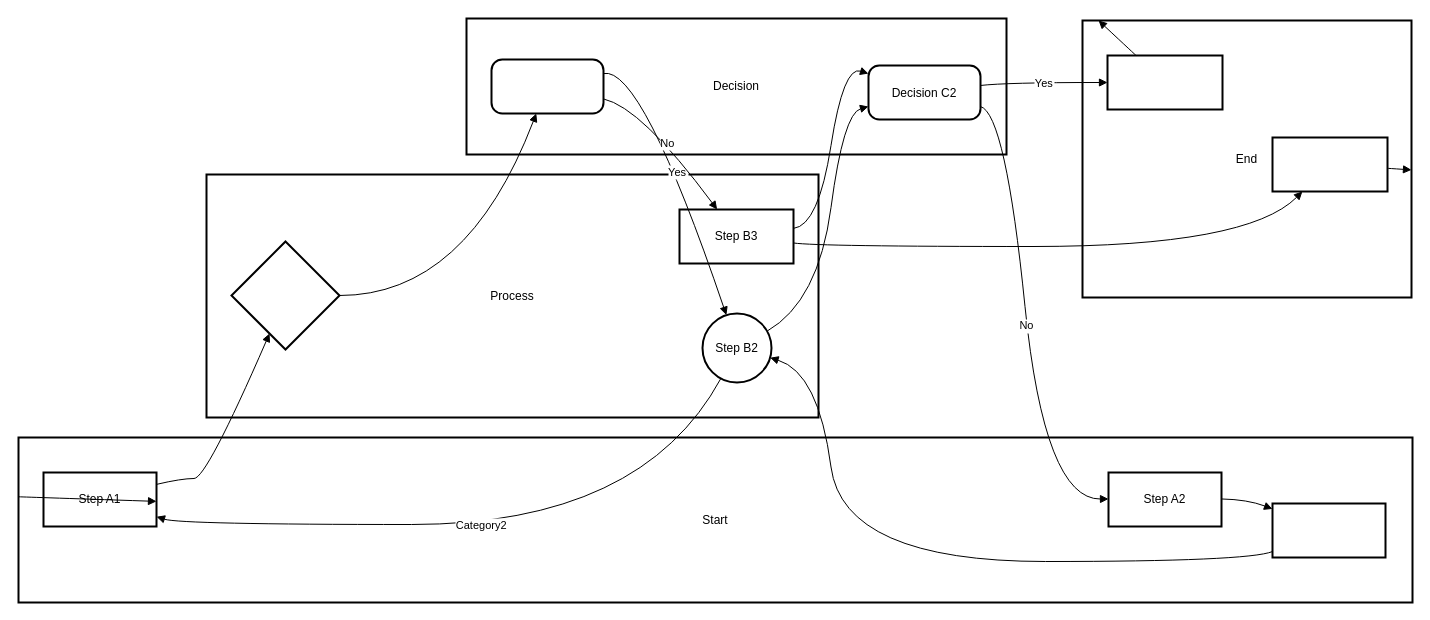
Some shapes in this 1430 by 620 pixel diagram are drawn without their labels. The centre of each missing label's shape, as x and y in pixels:
Decision C1: the point at 547,86
Step A3: the point at 1328,530
Step B1: the point at 285,295
Step D1: the point at 1164,82
Step D2: the point at 1329,164
